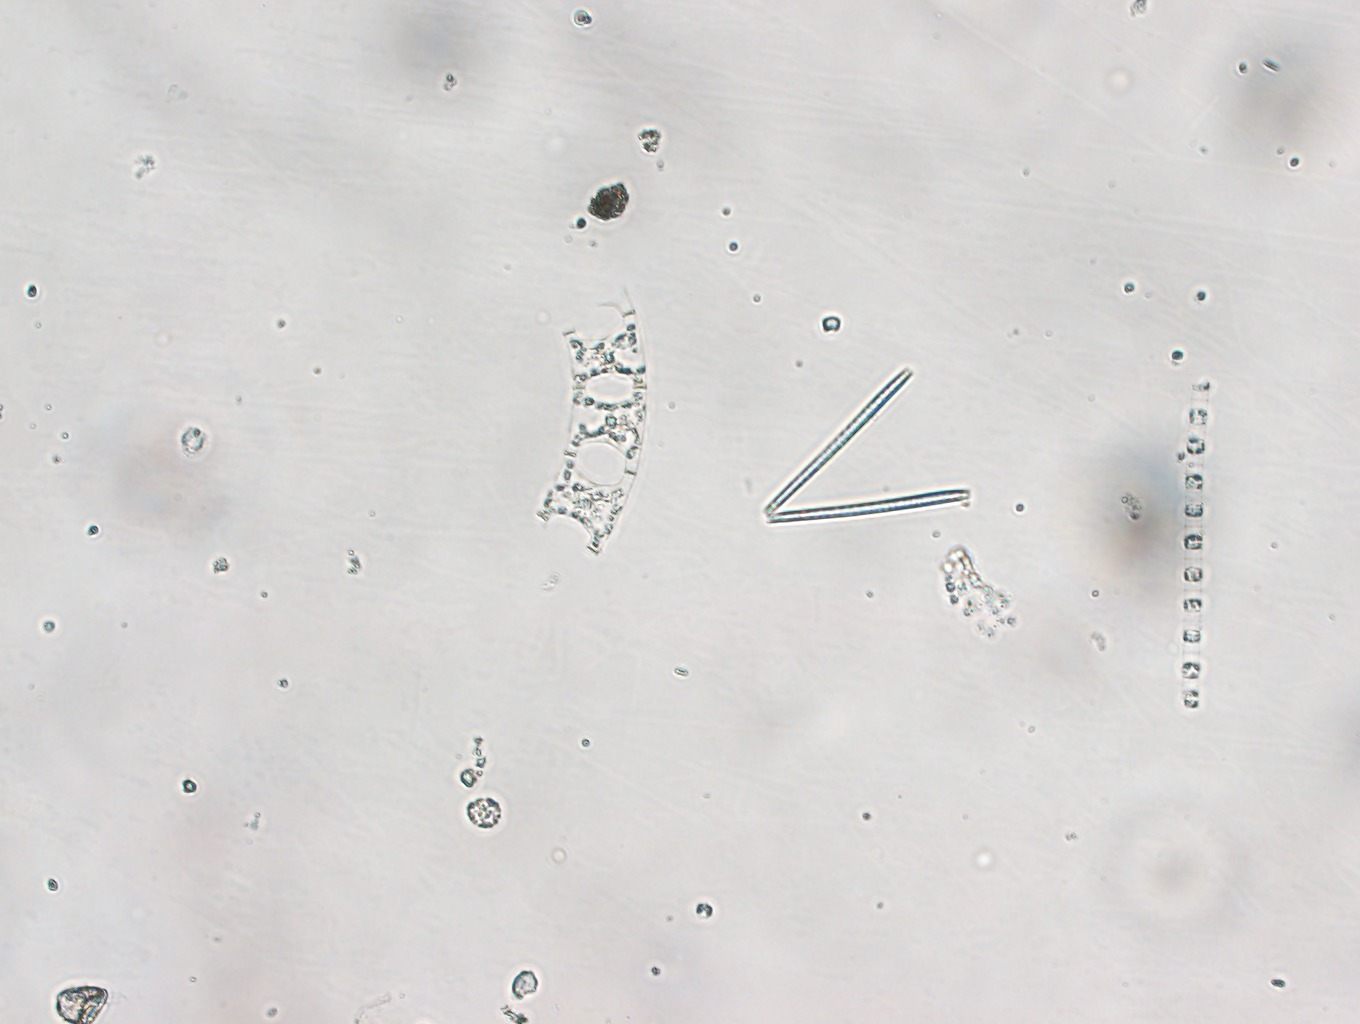eucampia: (527, 285, 656, 565)
skeletonema: (1159, 382, 1237, 722)
thalassionema nitzschioides: (760, 358, 976, 531)
